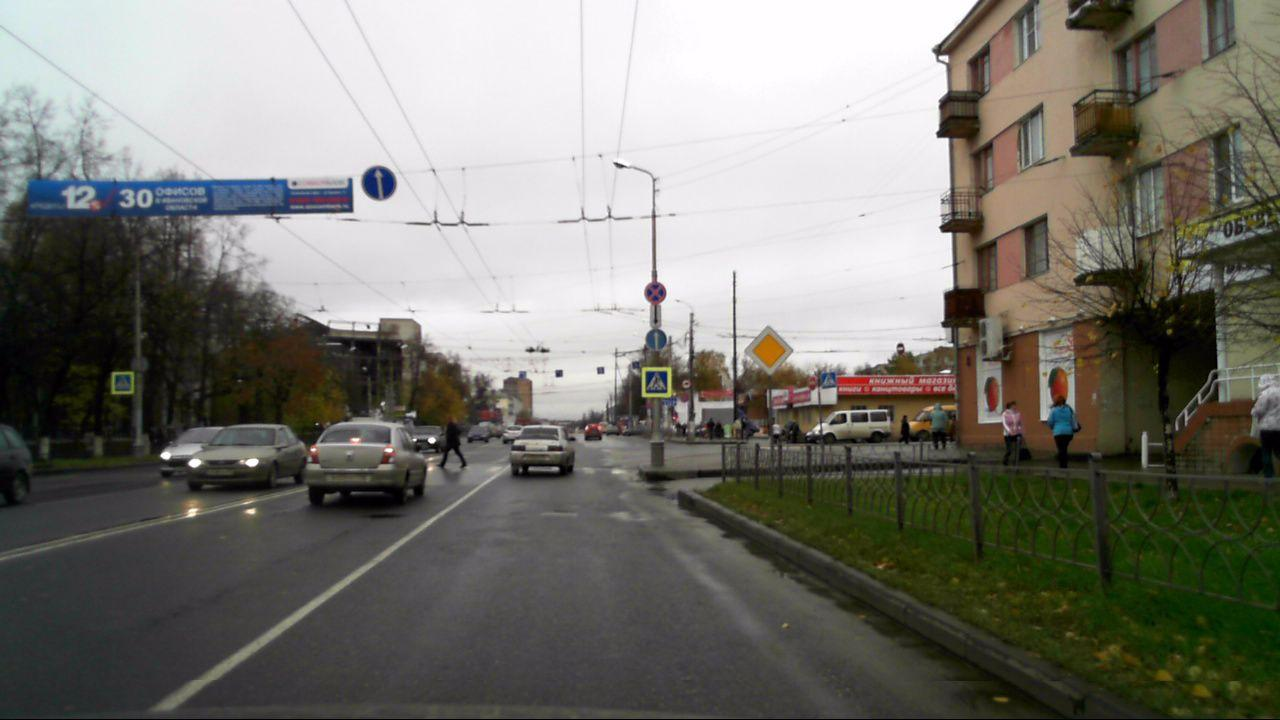road_sign: (742, 323, 795, 378), (361, 165, 398, 201), (641, 366, 674, 399), (111, 370, 135, 396), (644, 280, 666, 304), (646, 329, 667, 350), (649, 304, 661, 329)
